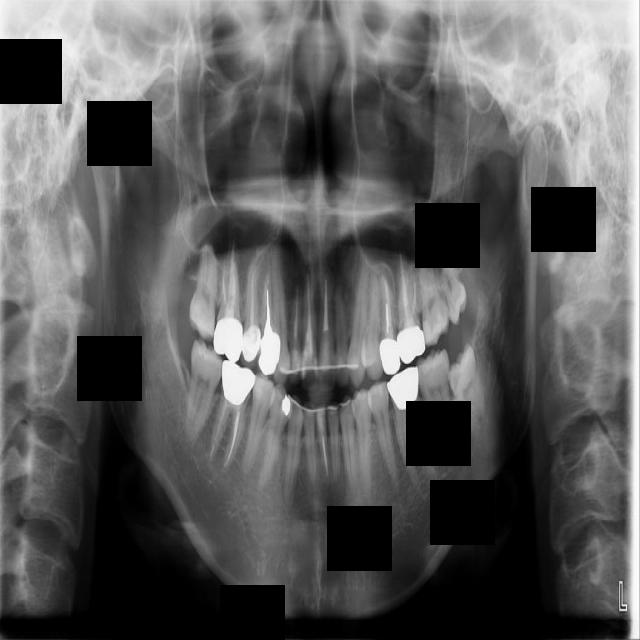52: (211, 358, 259, 410), (209, 310, 249, 364), (383, 365, 427, 411), (391, 315, 430, 366), (254, 330, 283, 380), (266, 382, 297, 427), (377, 330, 403, 377), (238, 324, 262, 369), (300, 350, 319, 393), (318, 350, 335, 392), (288, 350, 303, 384), (315, 403, 328, 434)
73: (204, 397, 248, 472), (215, 238, 242, 323), (396, 253, 421, 327), (254, 268, 279, 337), (297, 269, 317, 352), (244, 257, 263, 328), (316, 272, 333, 351), (379, 272, 397, 336), (288, 284, 302, 350), (318, 433, 333, 480), (605, 588, 607, 604)
BioHorizons Implant: (416, 247, 452, 349)
BioLife Implant: (438, 255, 471, 326)
Biomet 3i Implant: (440, 341, 491, 434)
Blue Sky Bio Implant: (414, 348, 456, 455)
Caries: (188, 242, 220, 342)
Implant: (183, 337, 226, 443)
